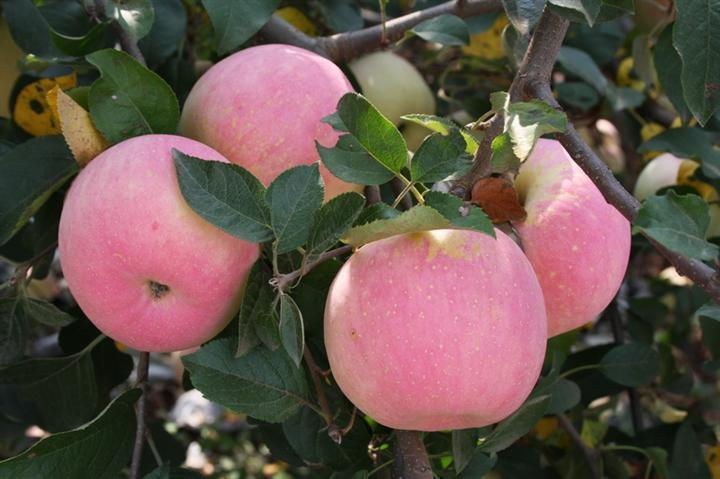apple: (55, 136, 256, 362), (323, 223, 540, 427), (178, 42, 350, 186), (511, 137, 630, 334)
